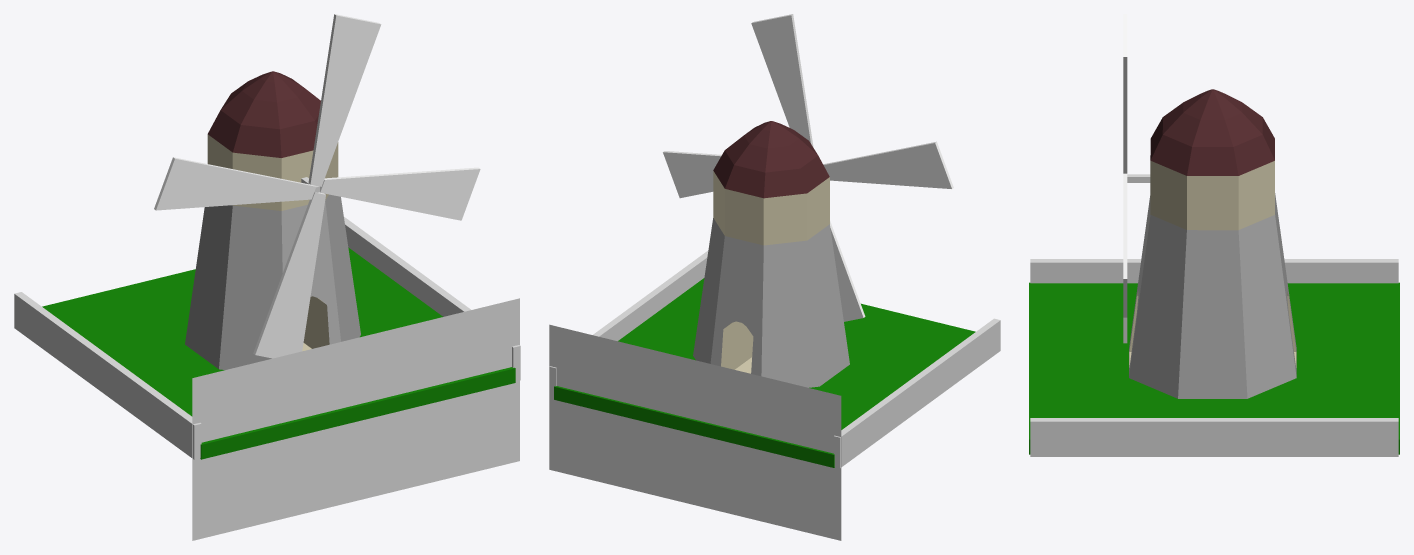
Rendered from mill.glb.
The picture shows the model from 3 angles, left to right: view 1: azimuth 30°, elevation 25°; view 2: azimuth 150°, elevation 25°; view 3: azimuth 270°, elevation 25°; orthographic projection. The views are drawn at different scales.
Parts seen in each view (by area): view 1: obj_snap, Cylinder, Cube.005, Cube, Cube.001, Cube.002; view 2: obj_snap.001, Cylinder, Cube, Cube.005, Cube.001, Cube.002; view 3: Cylinder, Cube, Cube.002, Cube.001, Cube.005.
Part boxes in pixels (x1,y1,x2,y2): obj_snap: (192, 298, 519, 540); Cylinder: (185, 71, 360, 369); Cube.005: (154, 14, 480, 358); Cube: (42, 247, 515, 459); Cube.001: (14, 292, 201, 459); Cube.002: (344, 217, 520, 381); obj_snap.001: (549, 324, 841, 540); Cylinder: (693, 121, 849, 387); Cube: (554, 278, 975, 467); Cube.005: (663, 14, 953, 321); Cube.001: (833, 318, 1000, 468); Cube.002: (549, 250, 708, 398); Cylinder: (1129, 89, 1296, 398); Cube: (1029, 282, 1399, 454); Cube.002: (1030, 418, 1398, 456); Cube.001: (1030, 259, 1398, 283); Cube.005: (1123, 14, 1127, 343).
Size of the model in its own units: 4.27 by 5.5 by 4.04.
